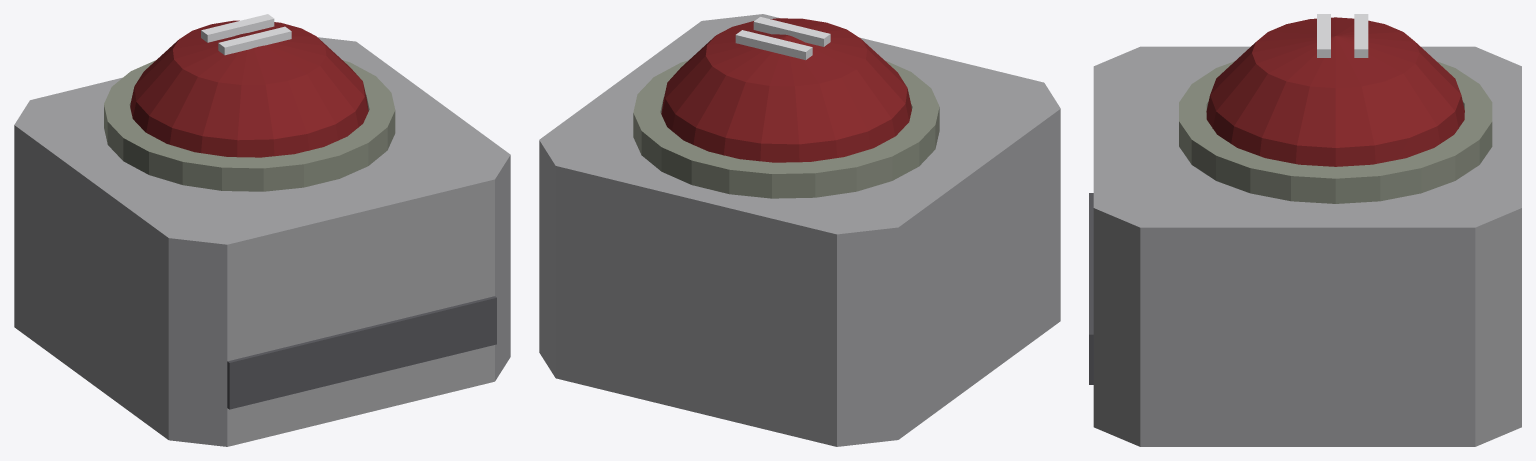
The model's file is vge_gunner_subpersona_core.obj.
The picture shows the model from 3 angles, left to right: view 1: azimuth 30°, elevation 25°; view 2: azimuth 150°, elevation 25°; view 3: azimuth 270°, elevation 25°; orthographic projection. The views are drawn at different scales.
Parts seen in each view (by area): view 1: vge_gunner_subpersona_core_0, vge_gunner_subpersona_core_3, vge_gunner_subpersona_core_1, vge_gunner_subpersona_core_2, vge_gunner_subpersona_core_4, vge_gunner_subpersona_core_5; view 2: vge_gunner_subpersona_core_0, vge_gunner_subpersona_core_3, vge_gunner_subpersona_core_2, vge_gunner_subpersona_core_5, vge_gunner_subpersona_core_4; view 3: vge_gunner_subpersona_core_0, vge_gunner_subpersona_core_3, vge_gunner_subpersona_core_2, vge_gunner_subpersona_core_1, vge_gunner_subpersona_core_5, vge_gunner_subpersona_core_4.
Part boxes in pixels (left/top/right/bottom): vge_gunner_subpersona_core_0: left=14, top=37, right=510, bottom=446; vge_gunner_subpersona_core_3: left=130, top=20, right=368, bottom=157; vge_gunner_subpersona_core_1: left=227, top=296, right=496, bottom=409; vge_gunner_subpersona_core_2: left=104, top=60, right=395, bottom=191; vge_gunner_subpersona_core_4: left=218, top=26, right=291, bottom=55; vge_gunner_subpersona_core_5: left=201, top=14, right=274, bottom=42; vge_gunner_subpersona_core_0: left=539, top=14, right=1060, bottom=446; vge_gunner_subpersona_core_3: left=661, top=18, right=911, bottom=162; vge_gunner_subpersona_core_2: left=633, top=60, right=939, bottom=198; vge_gunner_subpersona_core_5: left=735, top=30, right=812, bottom=60; vge_gunner_subpersona_core_4: left=753, top=17, right=830, bottom=46; vge_gunner_subpersona_core_0: left=1093, top=46, right=1521, bottom=446; vge_gunner_subpersona_core_3: left=1206, top=17, right=1464, bottom=166; vge_gunner_subpersona_core_2: left=1179, top=61, right=1492, bottom=203; vge_gunner_subpersona_core_1: left=1089, top=193, right=1093, bottom=384; vge_gunner_subpersona_core_5: left=1354, top=14, right=1368, bottom=57; vge_gunner_subpersona_core_4: left=1317, top=14, right=1330, bottom=57.
Size of the model in its own units: 0.92 by 0.77 by 0.93.
